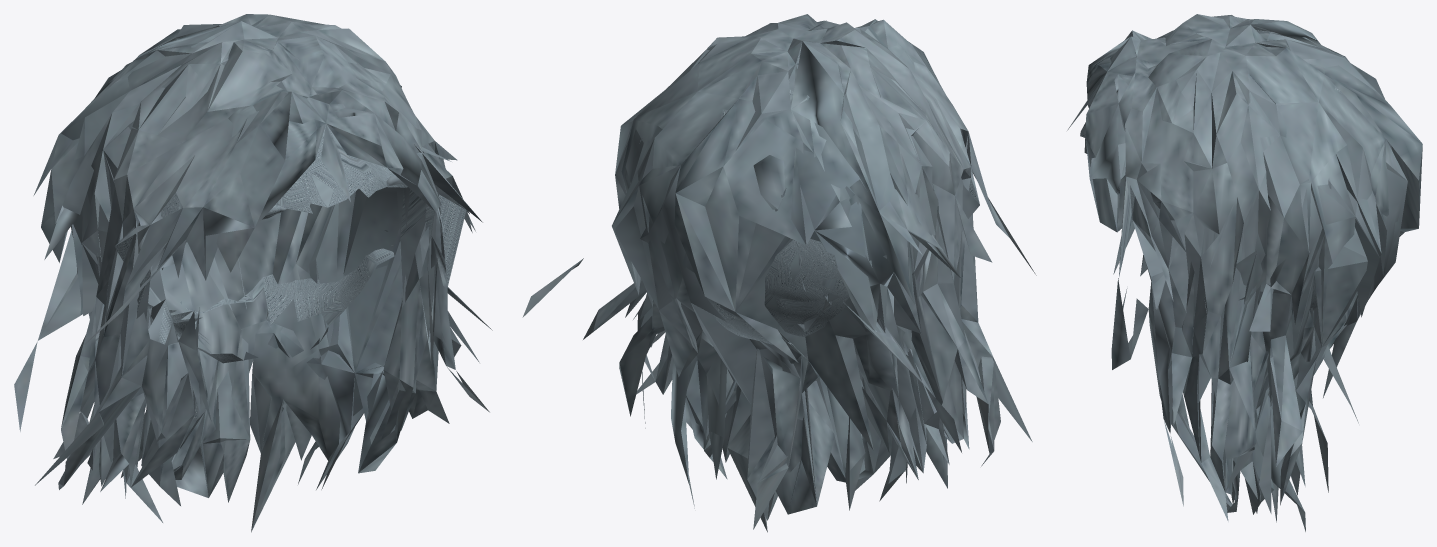
File: ondulado.glb
The picture shows the model from 3 angles, left to right: view 1: azimuth 30°, elevation 25°; view 2: azimuth 150°, elevation 25°; view 3: azimuth 270°, elevation 25°; orthographic projection. The views are drawn at different scales.
Parts seen in each view (by area): view 1: cabelo_ondulado; view 2: cabelo_ondulado; view 3: cabelo_ondulado.
Boxes of the visible parts, x1=… form: cabelo_ondulado: x1=14, y1=14, x2=492, y2=532; cabelo_ondulado: x1=522, y1=14, x2=1036, y2=532; cabelo_ondulado: x1=1067, y1=14, x2=1422, y2=531.
Bounding box in the file's own units: 0.2207 × 0.2356 × 0.1559.
1 material, 1 textured.
